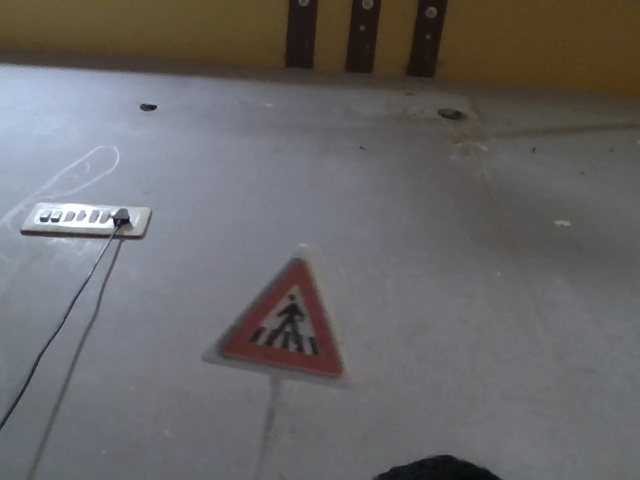crossing: (190, 226, 372, 383)
